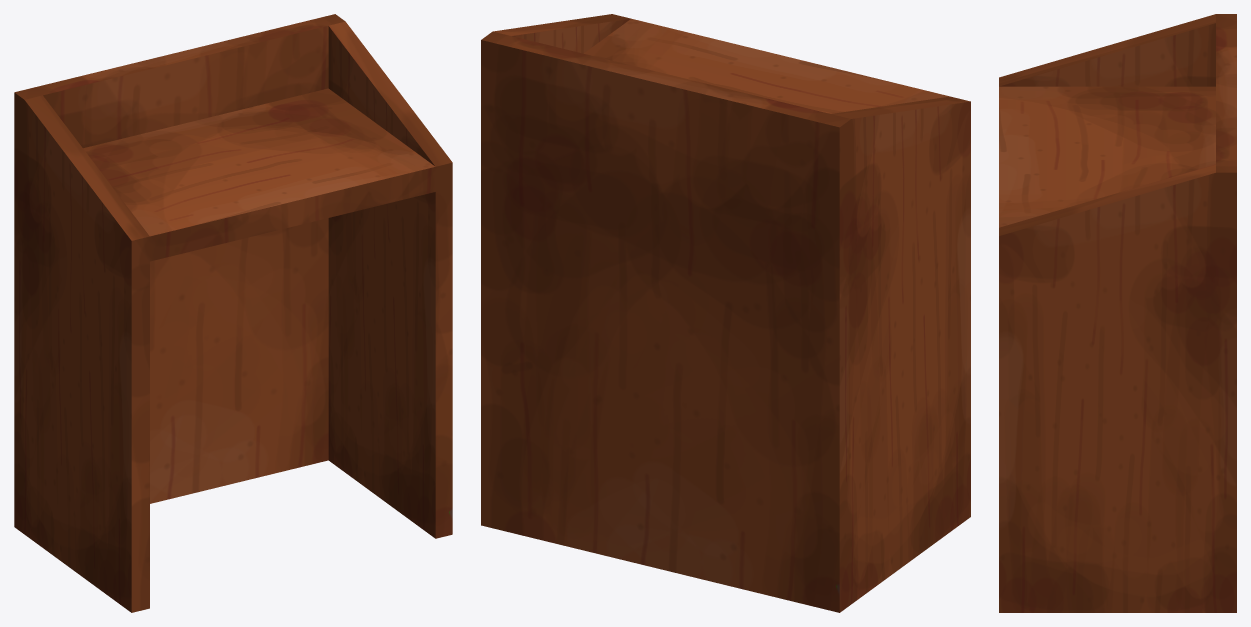
File: podium.FBX
3 views of the same model, side by side, from view 1: azimuth 30°, elevation 25°; view 2: azimuth 150°, elevation 25°; view 3: azimuth 270°, elevation 25° (orthographic). The views are drawn at different scales.
Visible parts, largest first — view 1: podium; view 2: podium; view 3: podium.
Boxes of the visible parts, x1=… form: podium: x1=14, y1=14, x2=452, y2=612; podium: x1=481, y1=14, x2=970, y2=612; podium: x1=999, y1=14, x2=1236, y2=612.
Size of the model in its own units: 1.34 by 1.73 by 0.8476.
